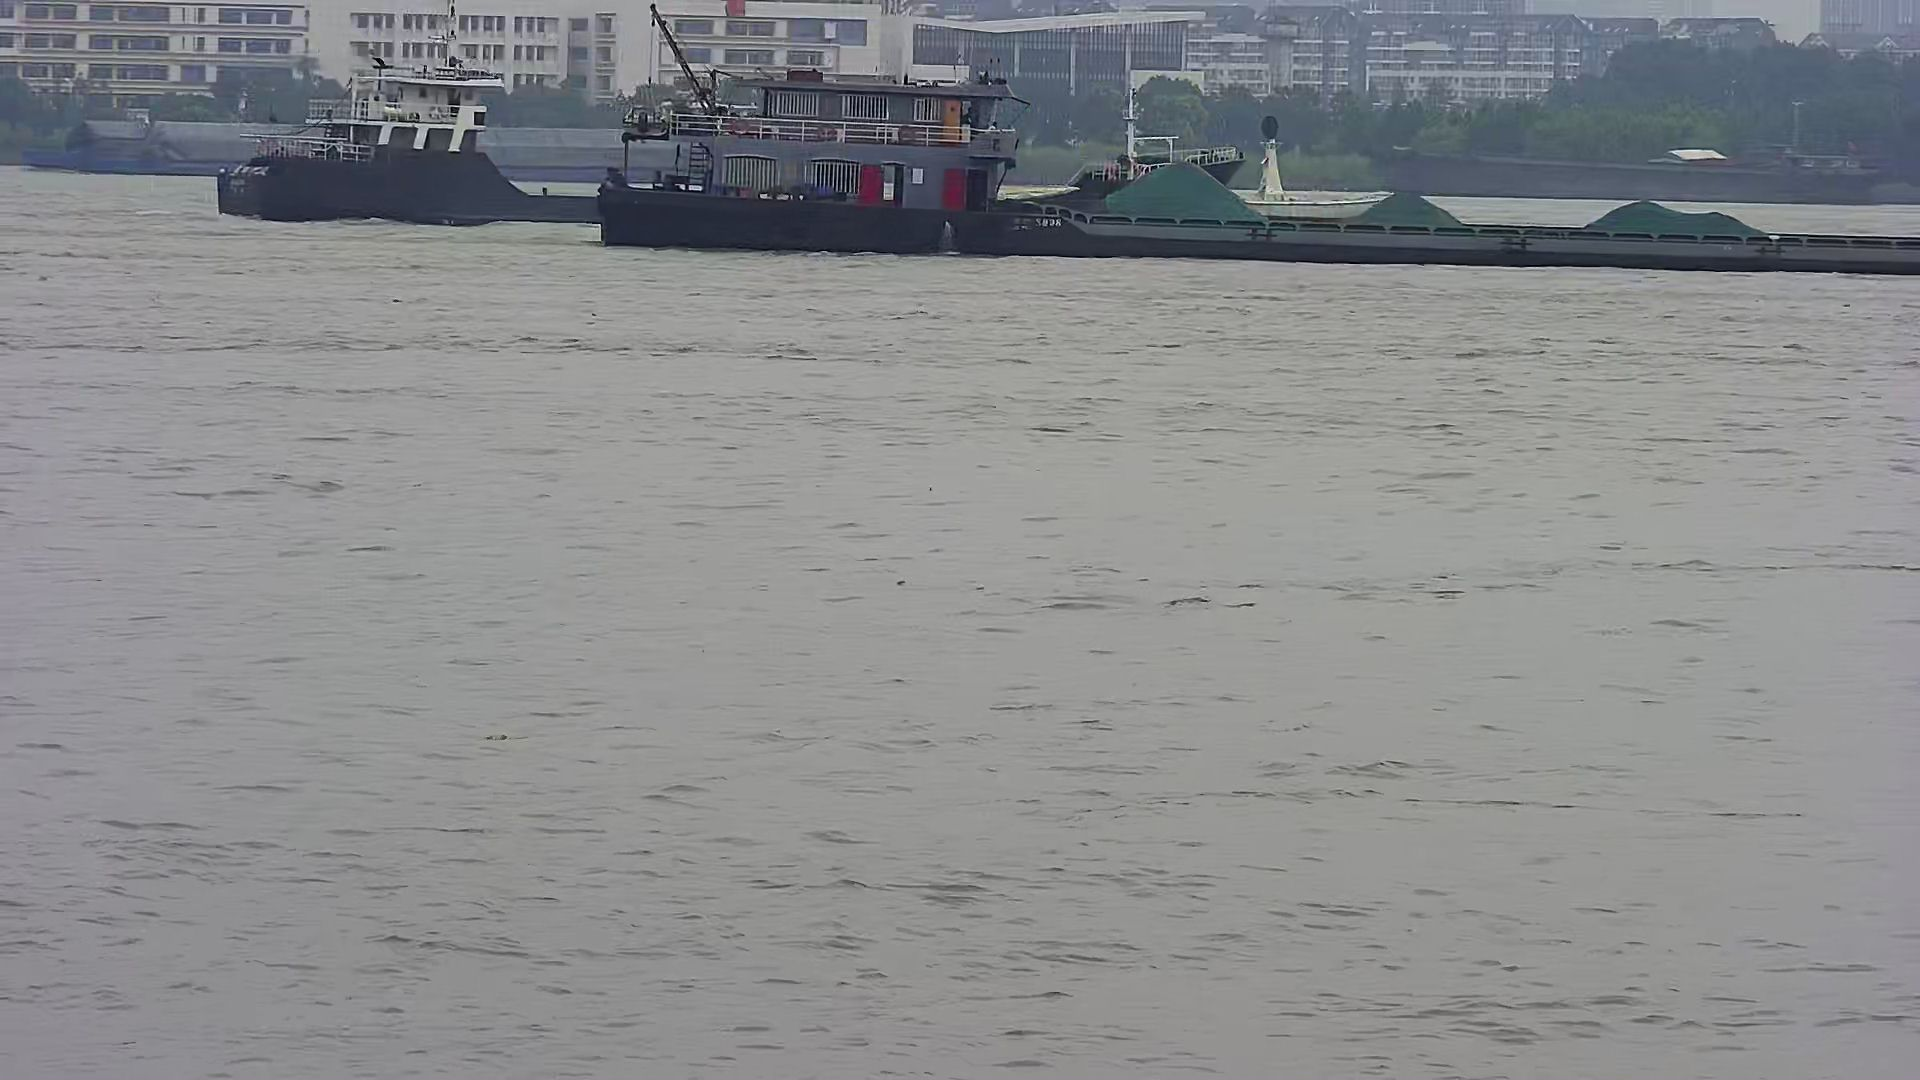boat: (1218, 109, 1404, 214)
ship: (593, 4, 1920, 276), (203, 61, 588, 229), (1337, 98, 1899, 203), (16, 103, 294, 174), (1054, 117, 1244, 191)
